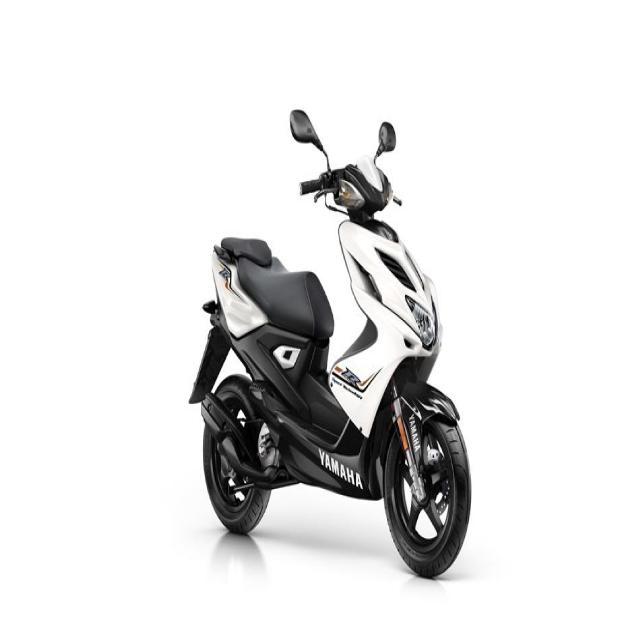Motorcycle: (191, 157, 471, 577)
